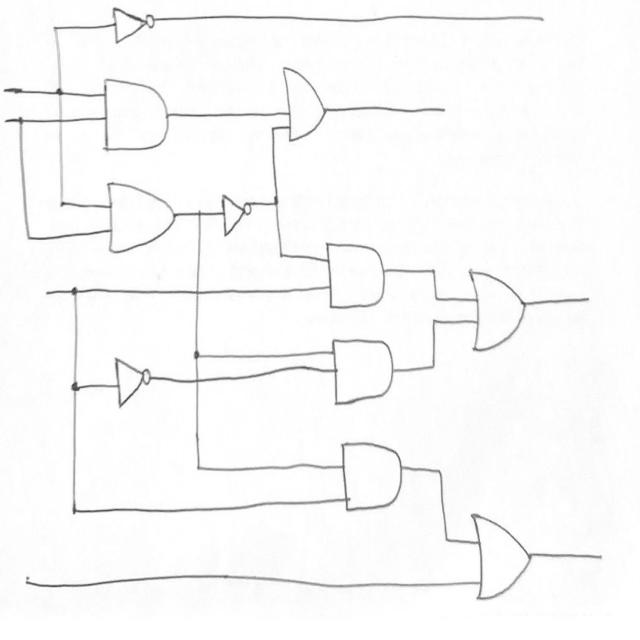AND: (99, 71, 176, 165), (332, 431, 409, 519), (318, 238, 392, 320), (324, 331, 396, 410)
NOT: (112, 345, 158, 414), (109, 2, 160, 49), (215, 189, 256, 244)
OR: (464, 498, 536, 610), (468, 253, 538, 368), (100, 176, 182, 266), (274, 55, 342, 151)
